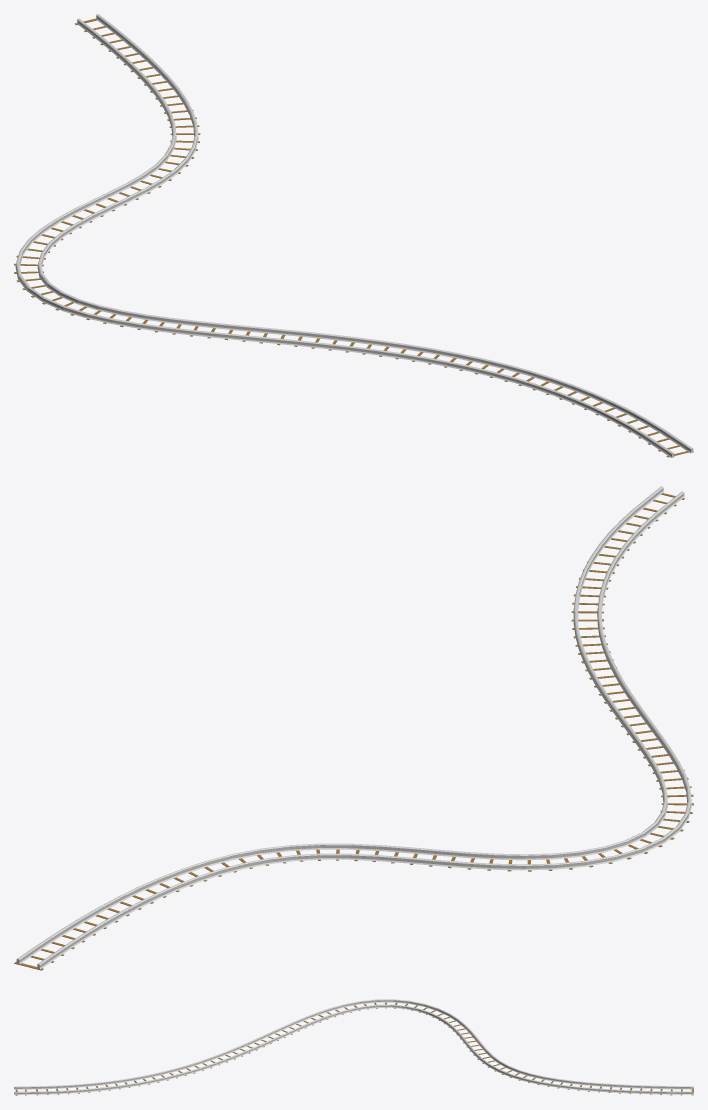
File: left1.fbx
3 views of the same model, one above another, from view 1: azimuth 30°, elevation 25°; view 2: azimuth 150°, elevation 25°; view 3: azimuth 270°, elevation 25° (orthographic). The views are drawn at different scales.
Parts seen in each view (by area): view 1: Top, Bot; view 2: Top, Bot; view 3: Top, Bot.
Part boxes in pixels (x1=…): Top: x1=15, y1=14, x2=693, y2=457; Bot: x1=14, y1=18, x2=693, y2=457; Top: x1=16, y1=486, x2=691, y2=969; Bot: x1=14, y1=493, x2=693, y2=970; Top: x1=14, y1=999, x2=693, y2=1094; Bot: x1=15, y1=1002, x2=693, y2=1095.
Size of the model in its own units: 4381 by 58.2 by 13316.
